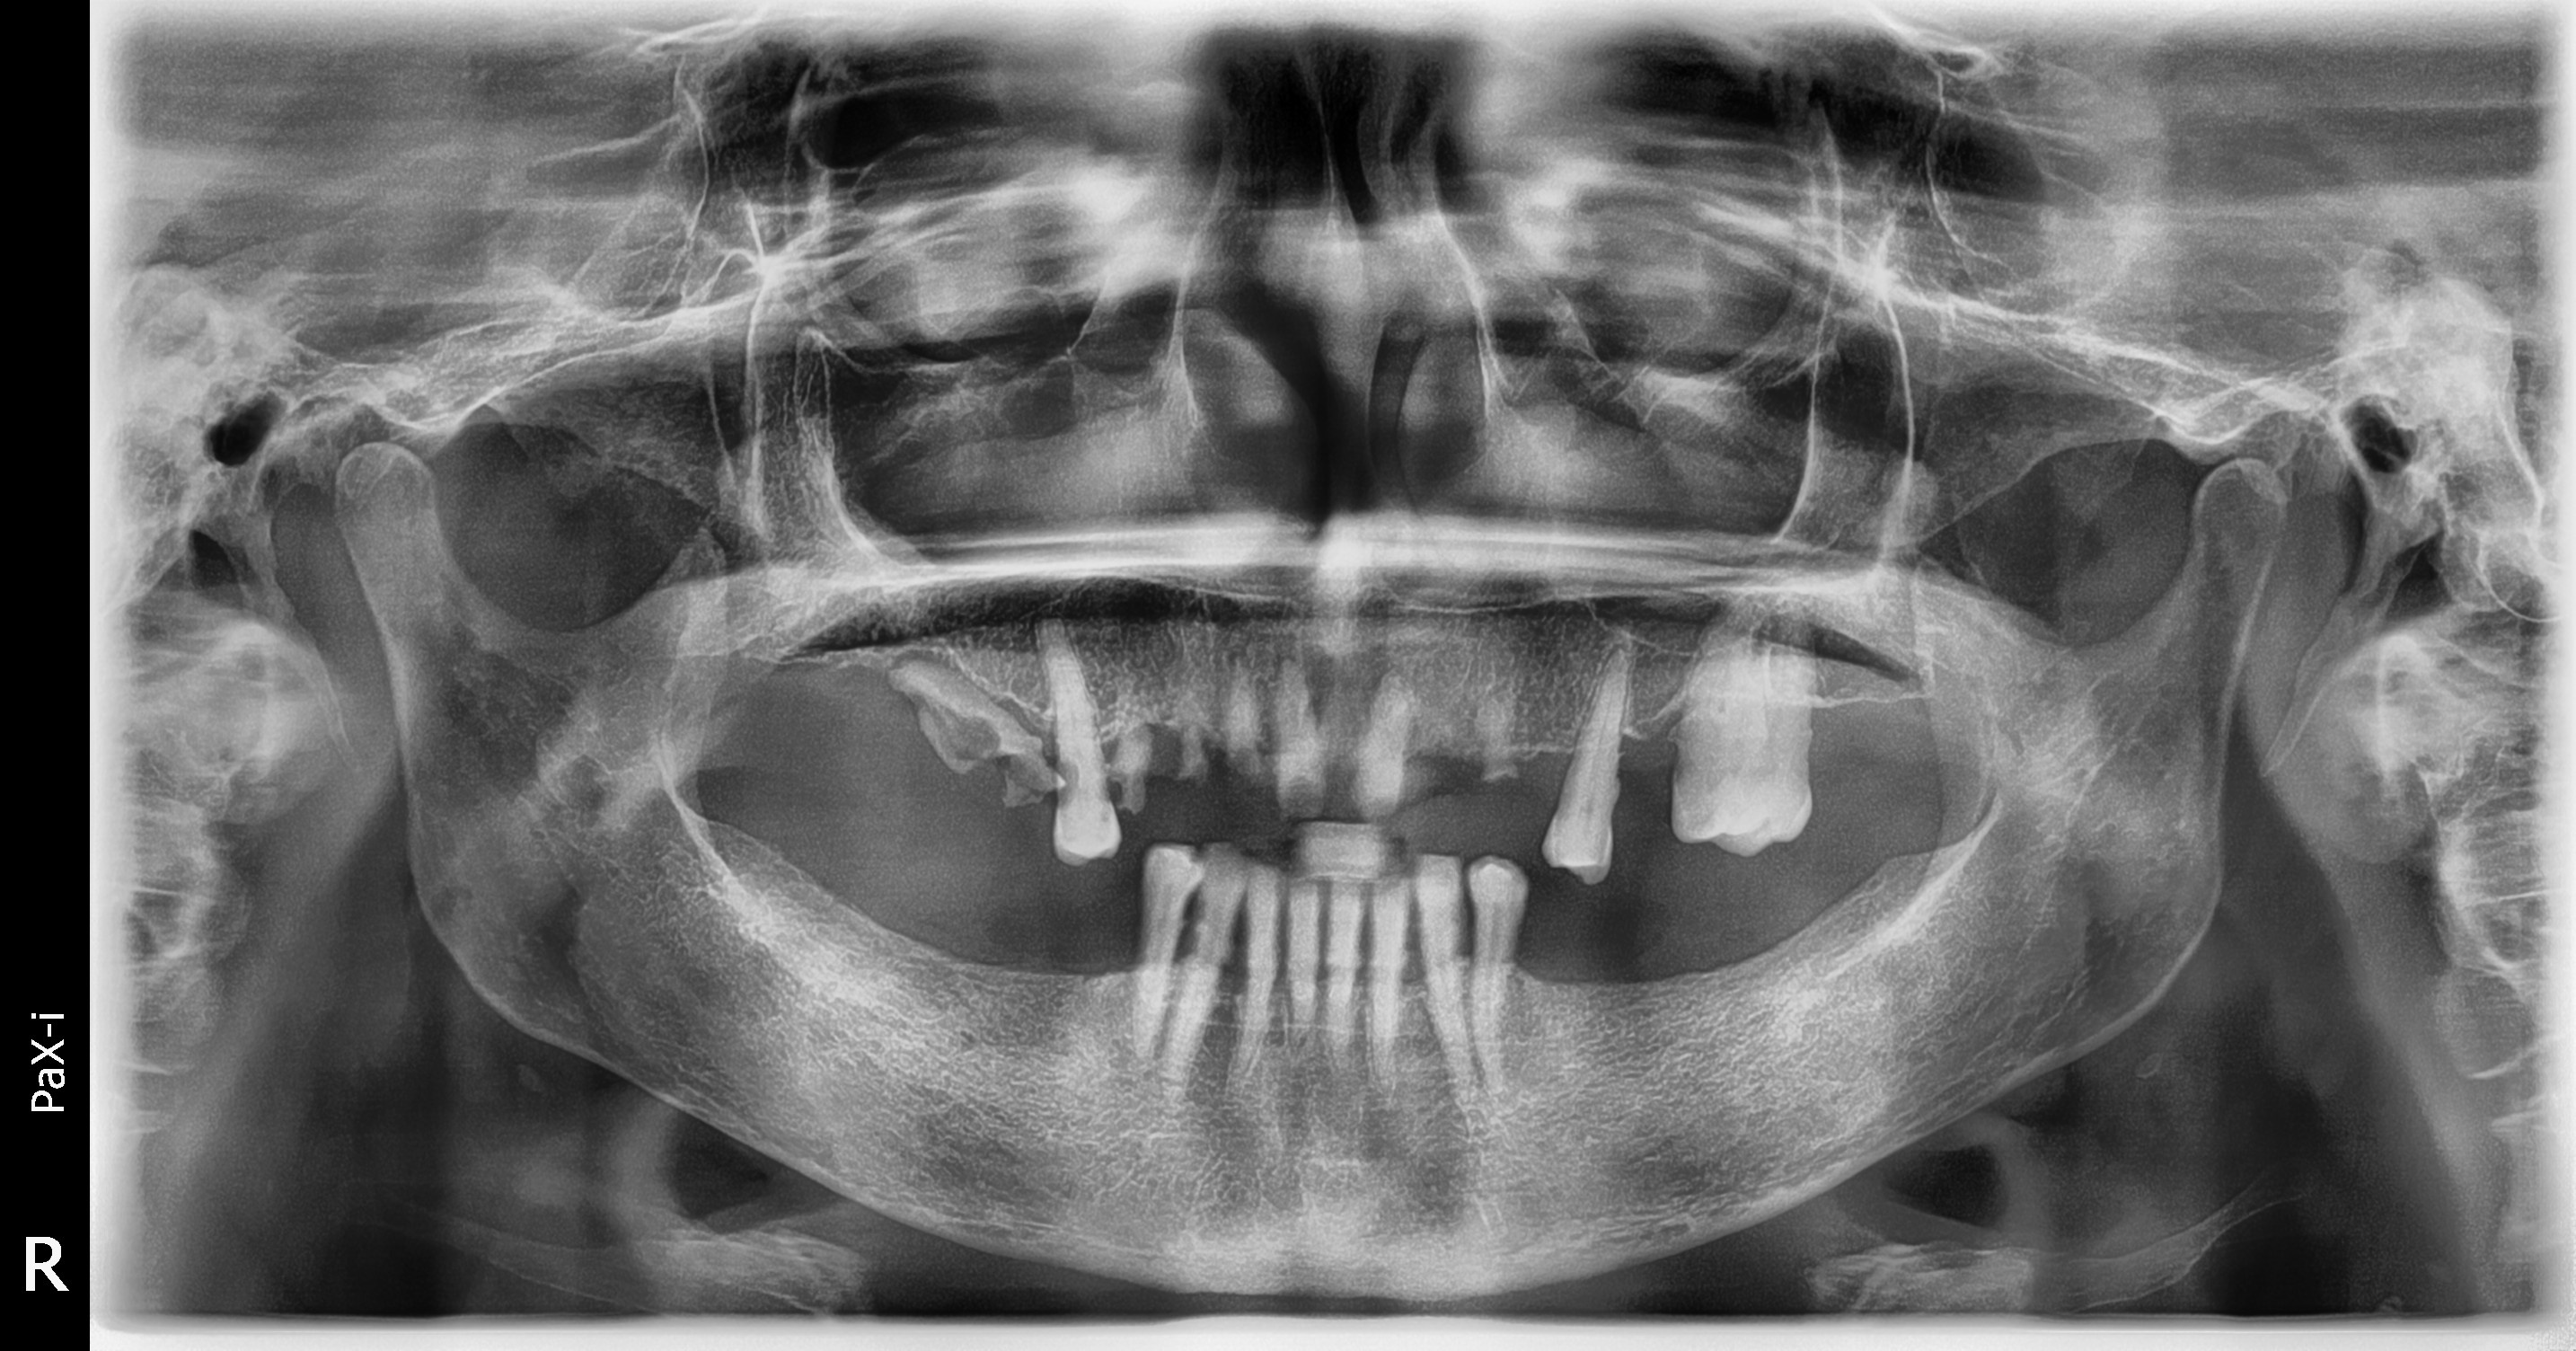API: (380, 288, 1344, 983)
CAR: (503, 331, 1586, 1138), (424, 351, 1482, 1169), (426, 329, 1433, 1099)
IMT: (758, 303, 2453, 1094), (414, 302, 1484, 1038)
ROT: (700, 261, 2230, 1061), (630, 261, 2068, 1090), (591, 245, 1930, 1065), (574, 254, 1845, 1053), (561, 305, 1774, 1104), (526, 285, 1687, 1104)
